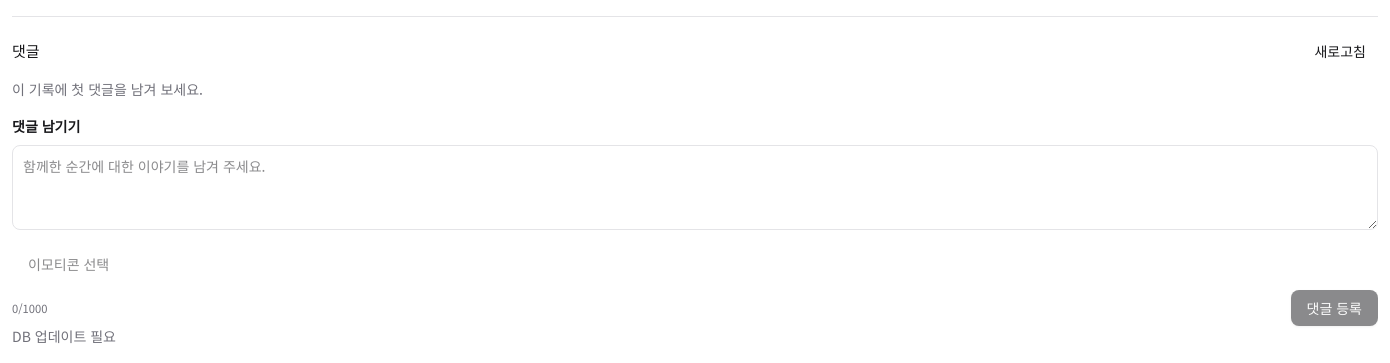
it: keeps text comments usable while reporting a missing sticker migration
The width and height of the screenshot is (1390, 363).
Expected: the text "DB 업데이트 필요" is shown, x1=12 y1=326 x2=116 y2=346
Expected: the button "이모티콘 선택" is disabled, x1=12 y1=246 x2=125 y2=282
Type "텍스트 댓글" into the text box labelled "댓글 남기기" at (695, 188), box x1=12 y1=145 x2=1378 y2=230
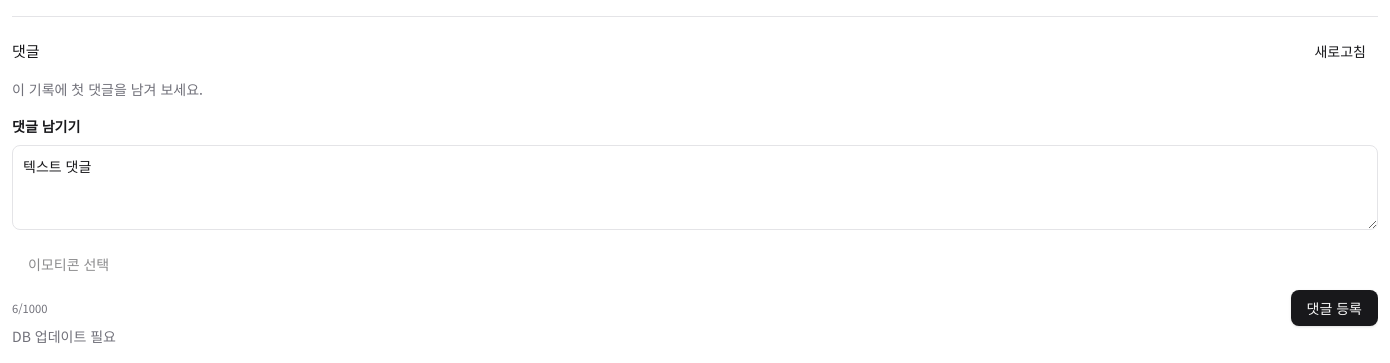
Expected: the button "댓글 등록" is enabled, x1=1290 y1=290 x2=1378 y2=326
